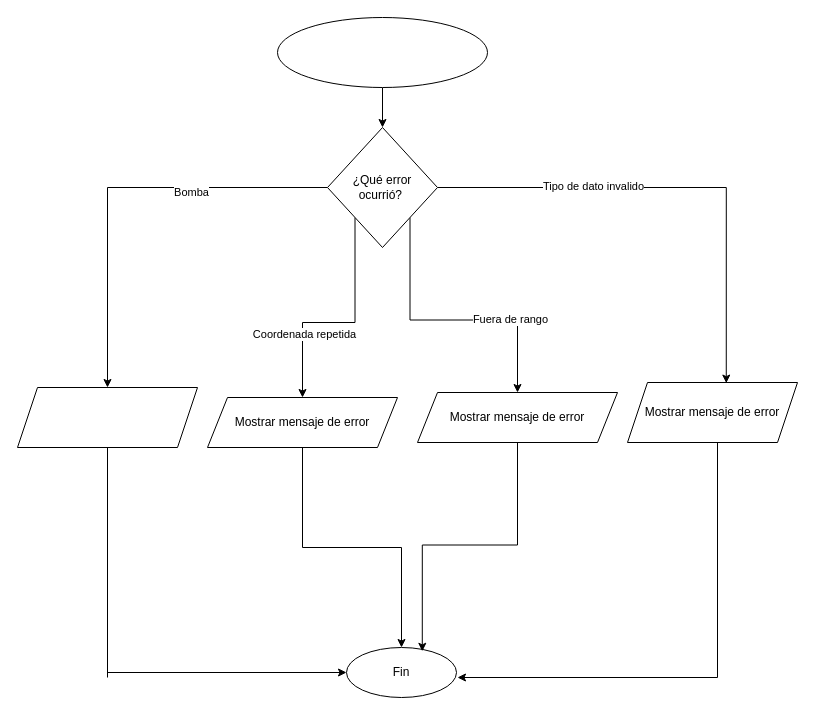
This 815x715 diagram has some shape labels left out. Here are the shapes that lost their labels. From the top down, the centre of each, then its label:
point (382, 52): Inicio game_over_message
point (107, 417): Mostrar sprite explosion + mensaje
